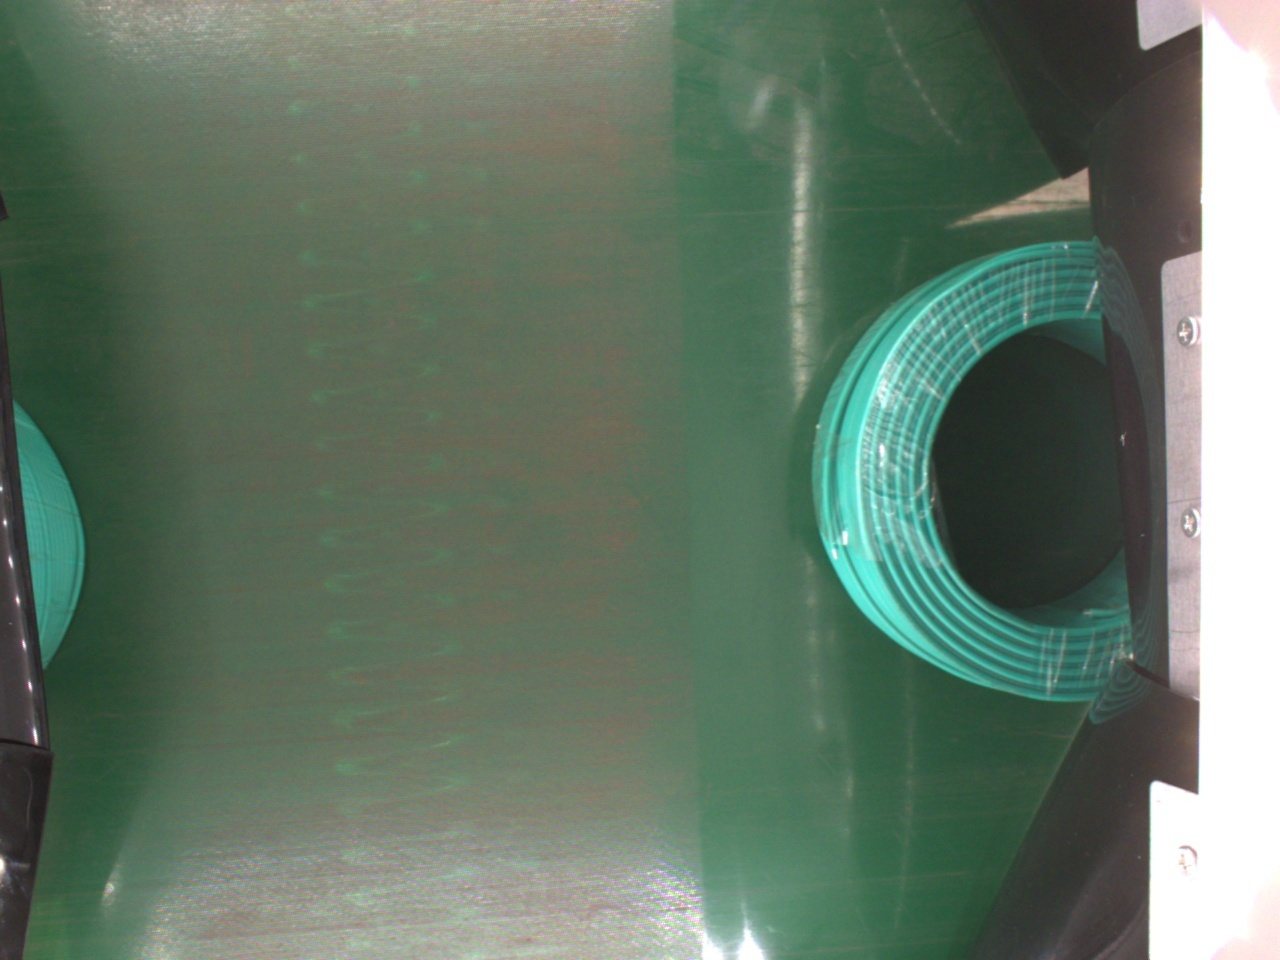green: (804, 240, 1135, 708)
